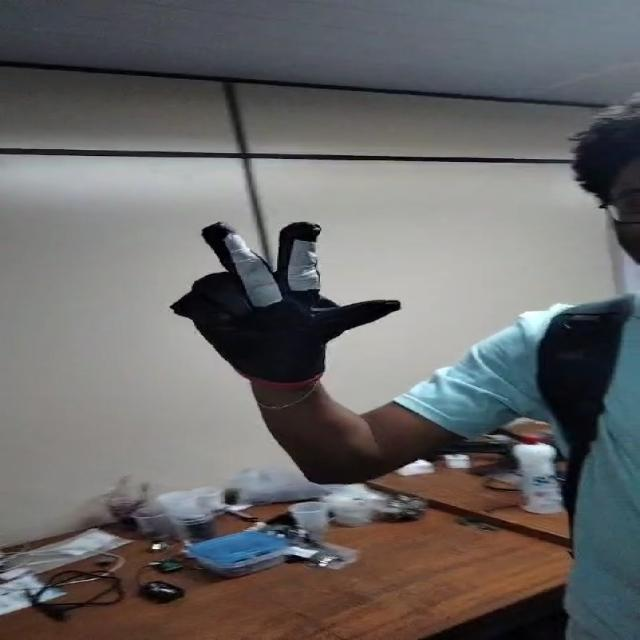Gloves: (164, 221, 406, 383)
